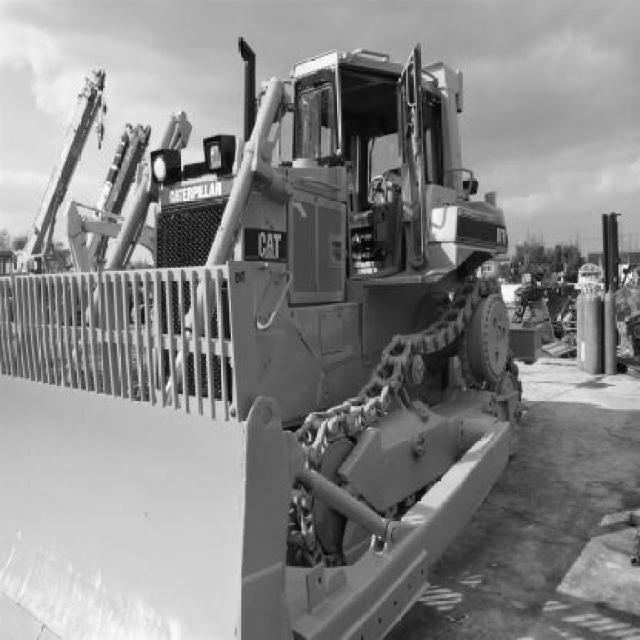Construction Equipment: (0, 39, 522, 640)
